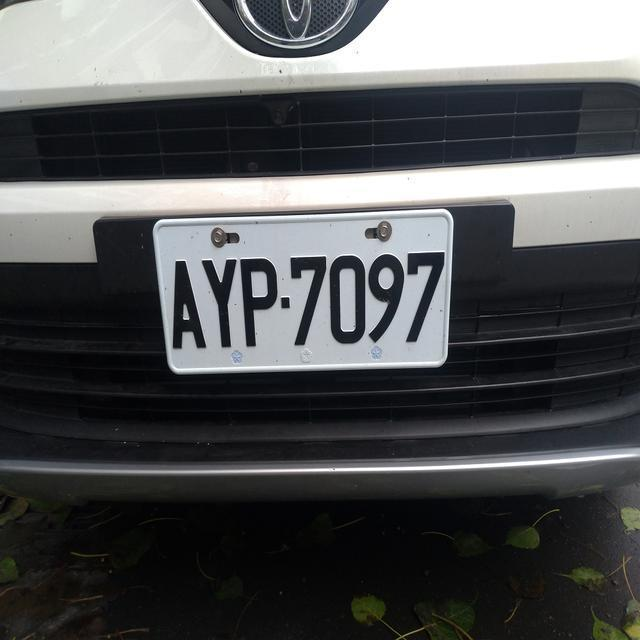plate: (155, 236, 453, 359)
